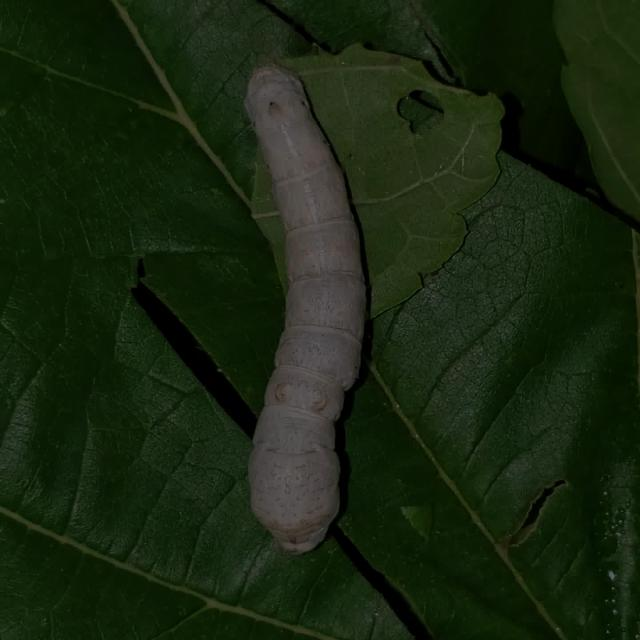Healthy: (199, 22, 380, 576)
